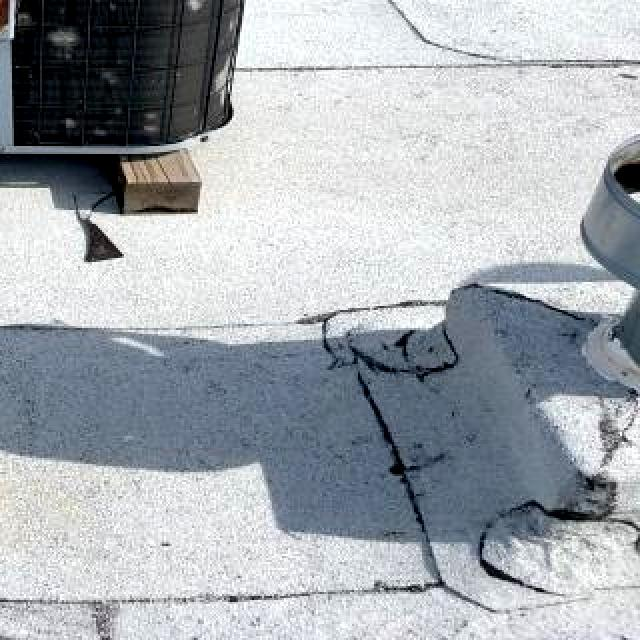GRAVITY-VENT: (582, 110, 640, 441)
SPLIT-SYSTEM: (0, 0, 278, 180)
